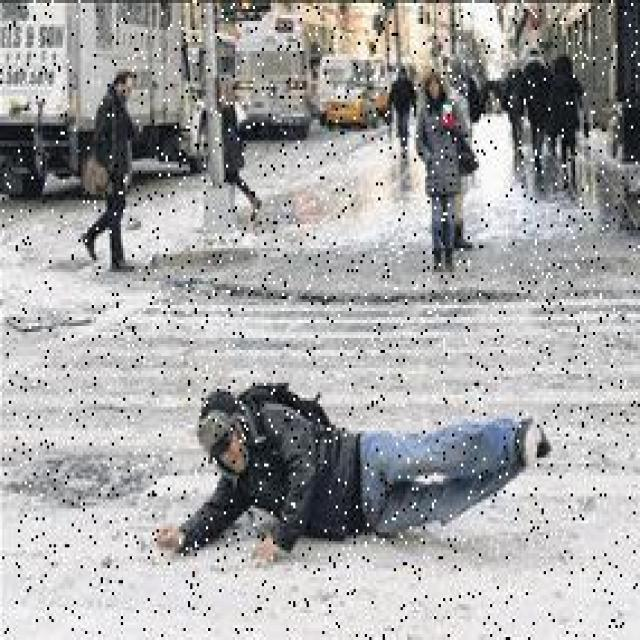fall: (170, 368, 548, 550)
